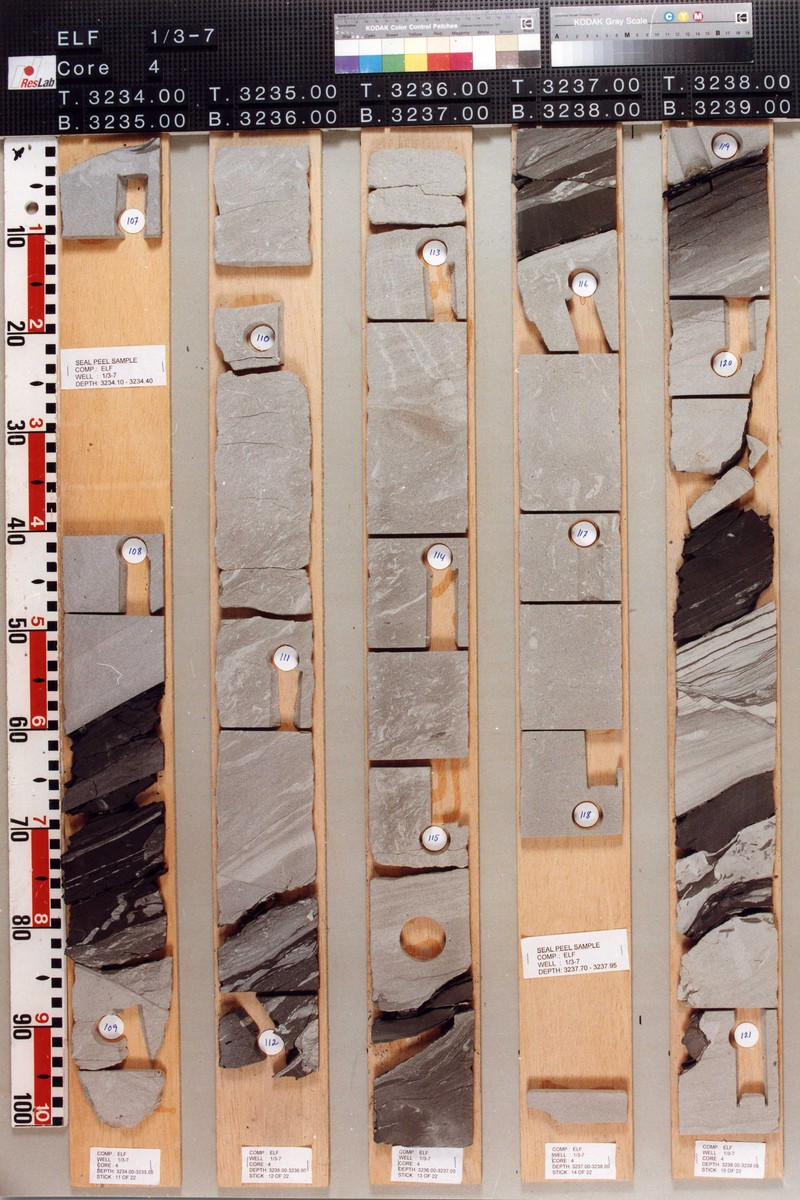core: (663, 126, 782, 1141), (365, 148, 479, 1143), (210, 303, 323, 1080), (512, 130, 624, 845), (57, 532, 172, 1130), (213, 142, 320, 279), (58, 136, 168, 247), (525, 1078, 634, 1132)
